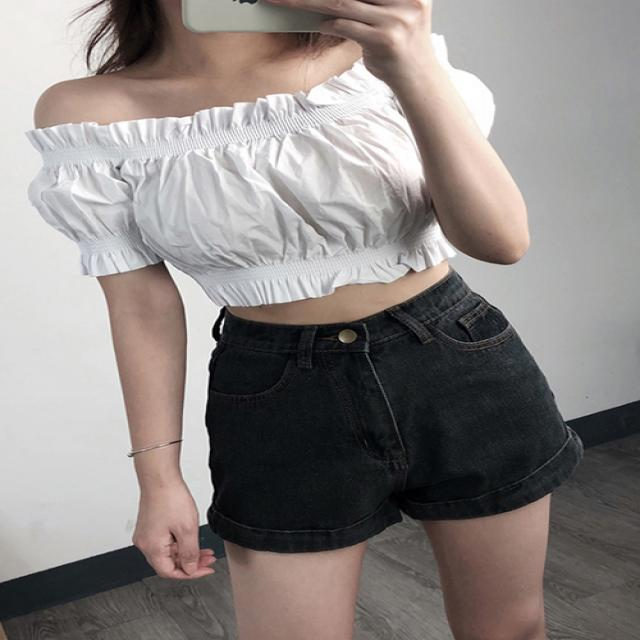clothes: (22, 58, 590, 551)
